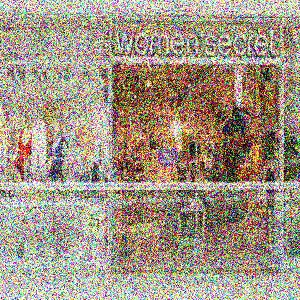women_secret: (184, 14, 300, 42)
